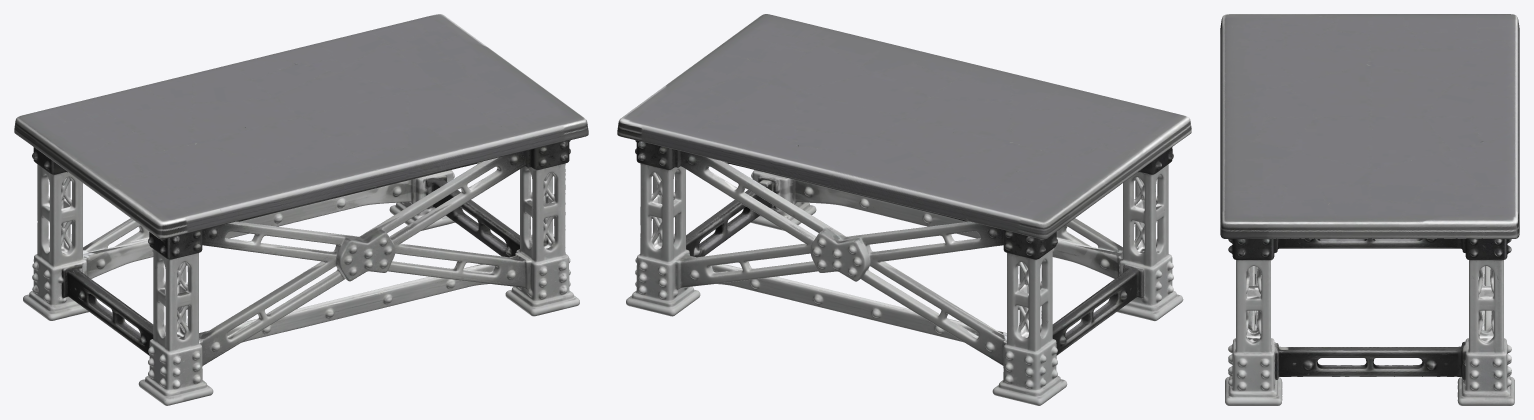
The model's file is table.glb.
3 views of the same model, side by side, from view 1: azimuth 30°, elevation 25°; view 2: azimuth 150°, elevation 25°; view 3: azimuth 270°, elevation 25° (orthographic).
Size of the model in its own units: 1.9 by 0.7887 by 1.14.
Materials: 1 (1 with a texture image).
